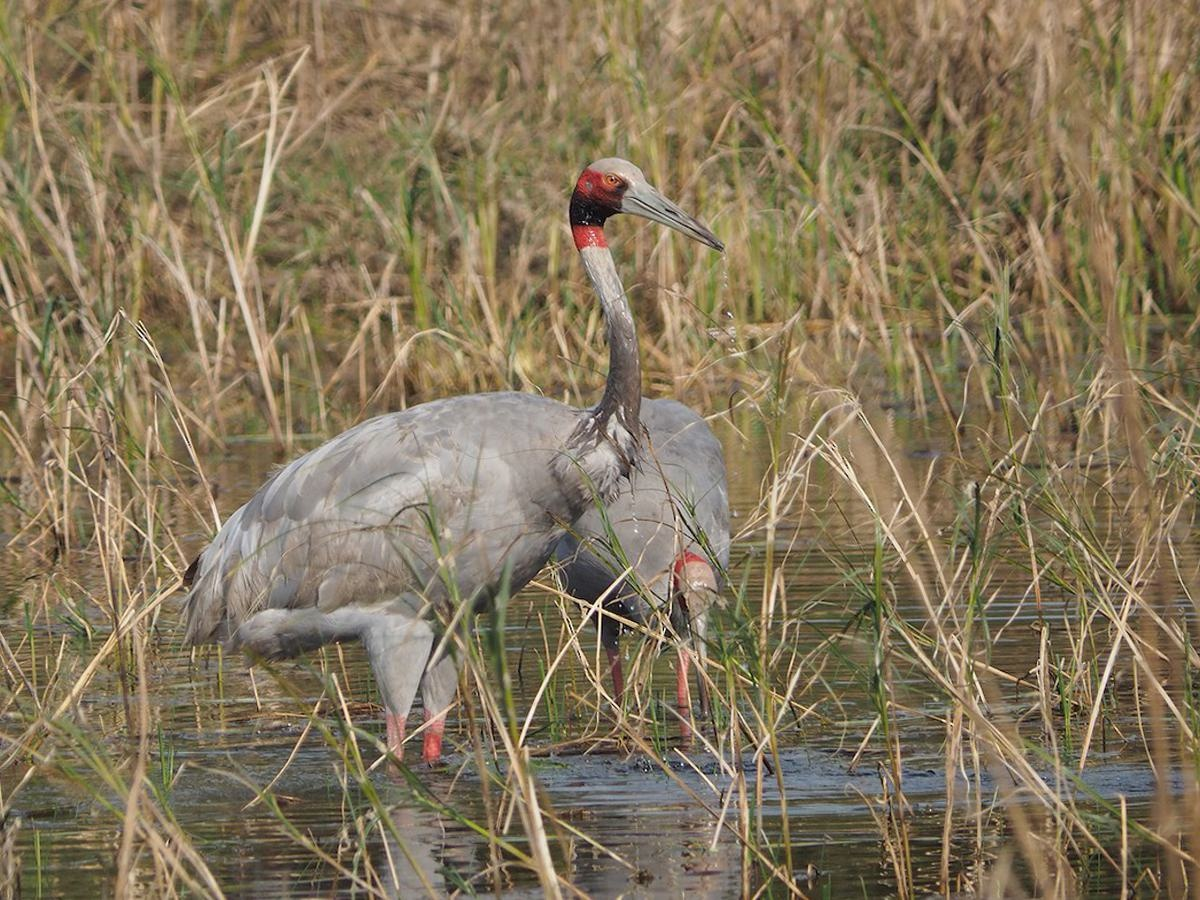crane: (207, 153, 721, 790), (575, 388, 736, 761)
